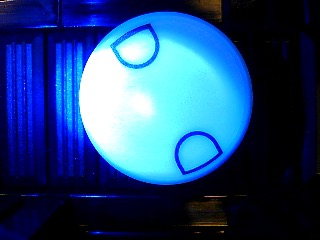MIPO2: (79, 11, 254, 185)
